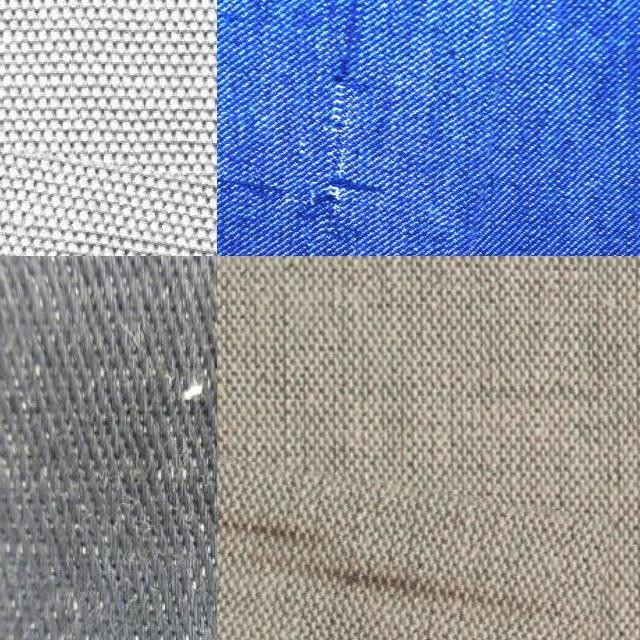Thread_other: (217, 0, 504, 256), (217, 462, 607, 640), (0, 112, 217, 256)
